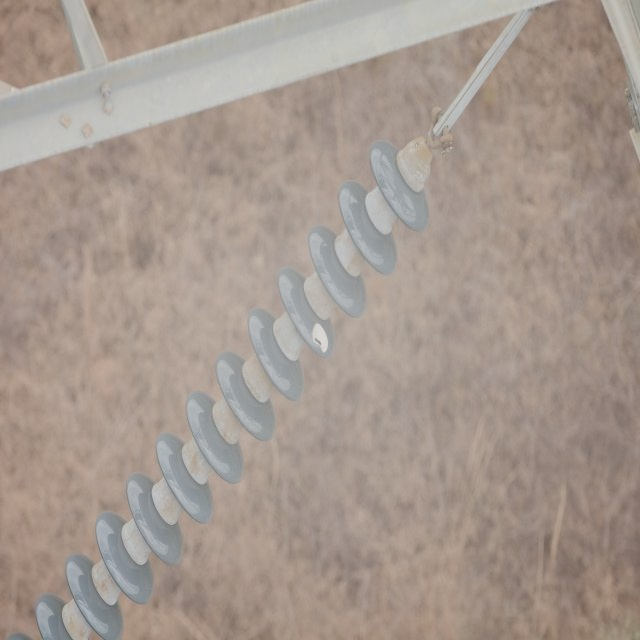broken: (312, 321, 331, 354)
insulator: (11, 143, 430, 635)
